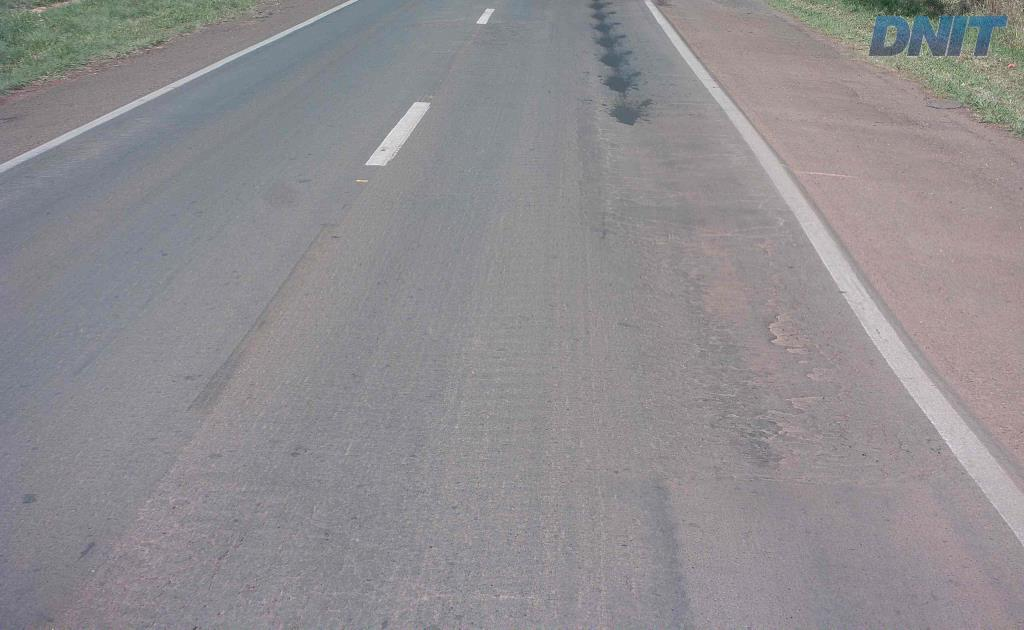pothole: (752, 299, 824, 358)
